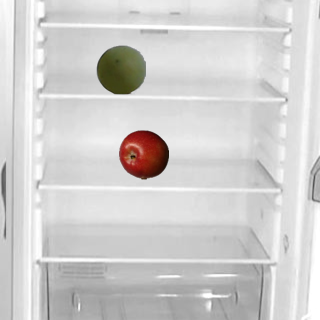Apple Braeburn: (118, 129, 168, 179)
Grape White 4: (95, 44, 145, 94)
